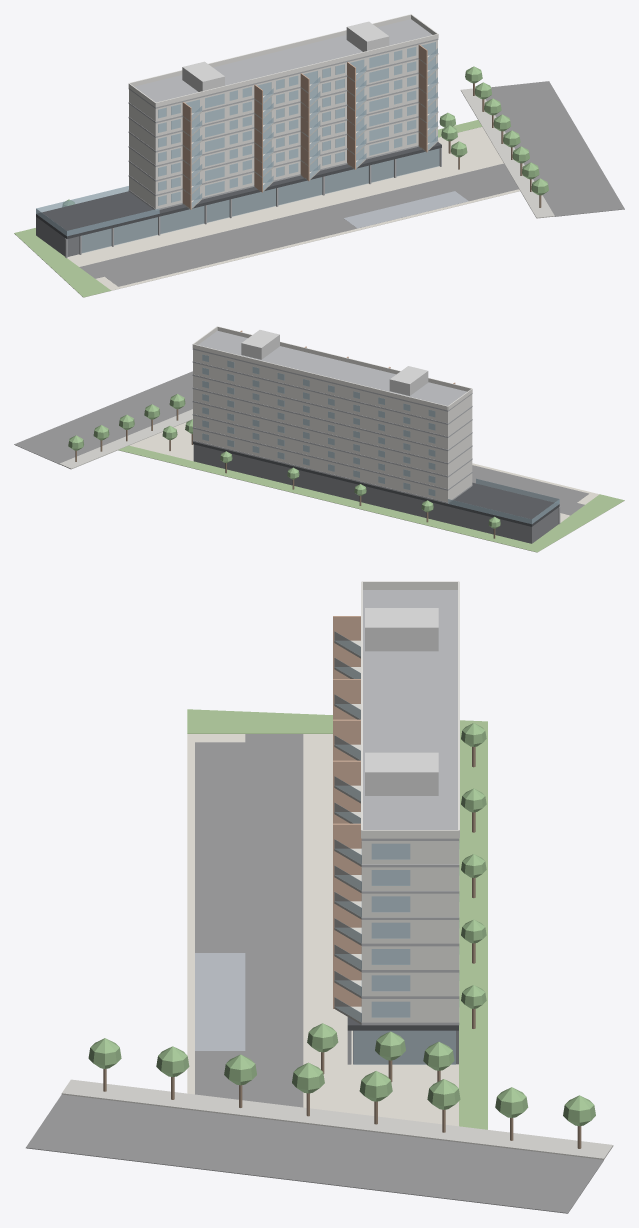
File: kutle_testere.glb
The picture shows the model from 3 angles, top to bottom: view 1: azimuth 30°, elevation 25°; view 2: azimuth 150°, elevation 25°; view 3: azimuth 270°, elevation 25°; orthographic projection. The views are drawn at different scales.
Parts seen in each view (by area): view 1: cadde, arsa, arac_yolu, zemin_kat, cati_doseme, tabela_bandi, otopark, kat_7, kat_1, kat_4, kat_3, kat_6 (+47 smaller); view 2: zemin_kat, cadde, cati_doseme, kat_2, kat_6, kat_7, kat_3, kat_1, kat_5, kat_4, tabela_bandi, yesil_kuzey (+23 smaller); view 3: cadde, arac_yolu, arsa, cati_doseme, otopark, yesil_kuzey, kaldirim, rampa, kat_7_sagir_duvar, cati_cikisi_CB, cati_cikisi_CA, yesil_arka (+13 smaller).
Boxes of the visible parts, x1,y1,x2,y2 form: cadde: (486, 81, 624, 216); arsa: (14, 127, 519, 297); arac_yolu: (79, 163, 511, 278); zemin_kat: (36, 148, 439, 256); cati_doseme: (128, 19, 438, 108); tabela_bandi: (36, 142, 441, 238); otopark: (105, 177, 518, 286); kat_7: (129, 40, 437, 121); kat_1: (129, 128, 437, 208); kat_4: (129, 84, 437, 165); kat_3: (129, 98, 437, 179); kat_6: (129, 55, 437, 136); zemin_kat: (193, 444, 558, 543); cadde: (14, 371, 192, 464); cati_doseme: (192, 330, 472, 411); kat_2: (193, 415, 472, 489); kat_6: (193, 363, 472, 436); kat_7: (193, 349, 472, 423); kat_3: (193, 402, 472, 475); kat_1: (193, 428, 472, 502); kat_5: (193, 376, 472, 449); kat_4: (193, 389, 472, 462); tabela_bandi: (193, 442, 559, 526); yesil_kuzey: (118, 445, 545, 552); cadde: (26, 1094, 603, 1213); arac_yolu: (245, 734, 303, 1107); arsa: (187, 734, 458, 1126); cati_doseme: (361, 590, 459, 840); otopark: (195, 742, 245, 1100); yesil_kuzey: (459, 720, 487, 1129); kaldirim: (61, 1079, 613, 1159); rampa: (195, 953, 245, 1050); kat_7_sagir_duvar: (333, 616, 361, 850); cati_cikisi_CB: (365, 608, 438, 651); cati_cikisi_CA: (365, 752, 438, 795); yesil_arka: (187, 709, 332, 733).
Size of the model in its own units: 123 by 28.6 by 60.67.
